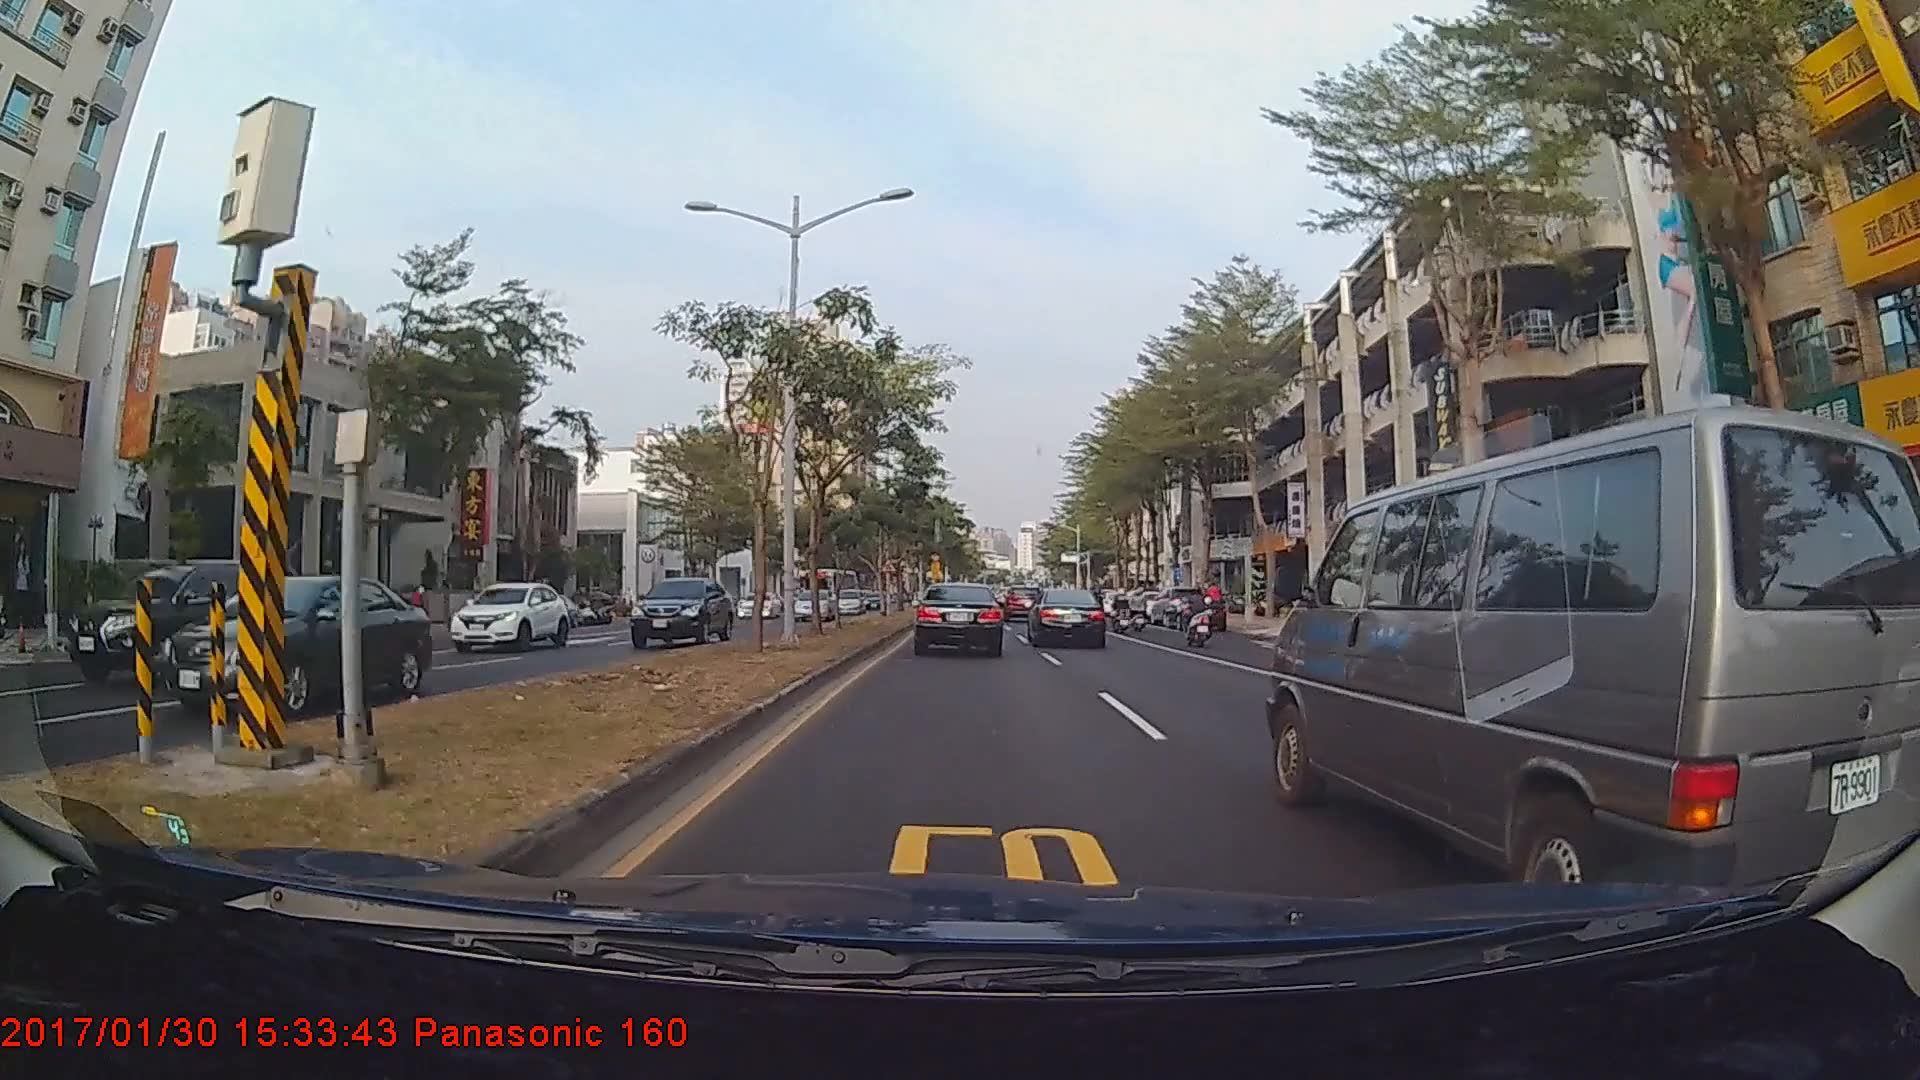rider: (1178, 582, 1217, 650)
vehicle: (1266, 408, 1891, 910), (151, 572, 433, 723), (70, 559, 288, 689), (448, 579, 569, 652), (625, 575, 729, 649), (914, 579, 1004, 656), (1029, 588, 1107, 649), (1160, 595, 1227, 633), (792, 590, 835, 624), (736, 591, 782, 619), (1004, 581, 1042, 615), (830, 586, 868, 616)
